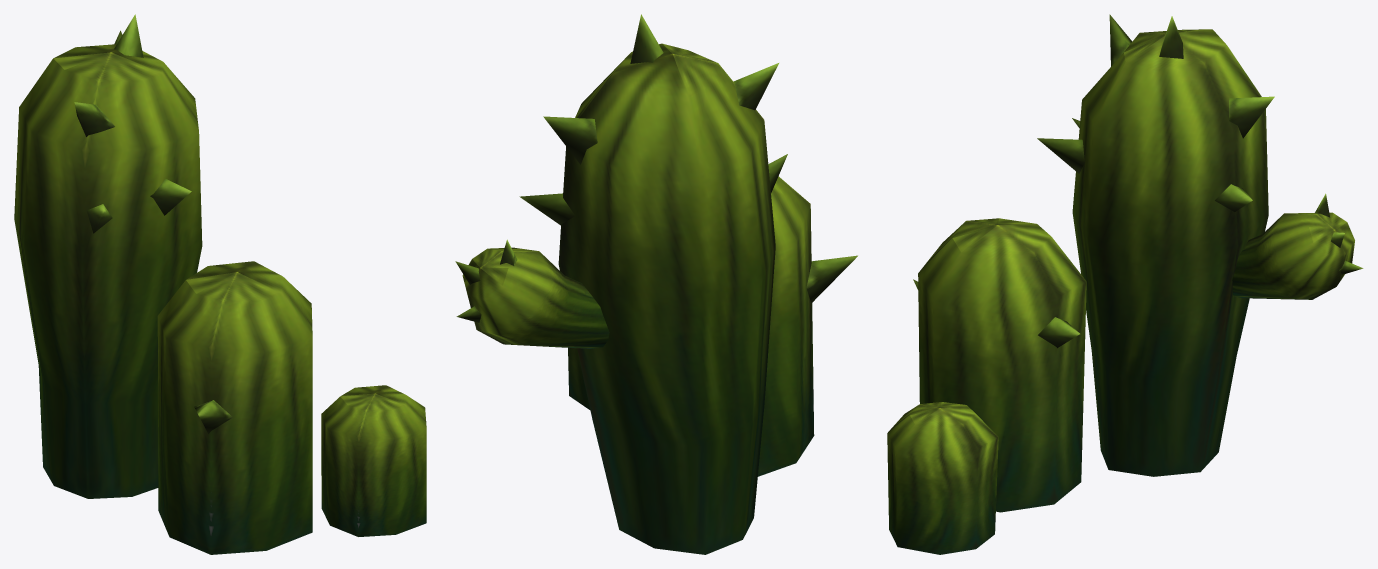
File: xianrenzhang02.FBX
3 views of the same model, side by side, from view 1: azimuth 30°, elevation 25°; view 2: azimuth 150°, elevation 25°; view 3: azimuth 270°, elevation 25° (orthographic). The views are drawn at different scales.
Parts seen in each view (by area): view 1: xianrenzhang02; view 2: xianrenzhang02; view 3: xianrenzhang02.
Part boxes in pixels (<box>): xianrenzhang02: <box>14,14,426,554</box>; xianrenzhang02: <box>455,14,857,554</box>; xianrenzhang02: <box>887,14,1363,554</box>.
Bounding box in the file's own units: 60.98 × 91.99 × 87.43.
